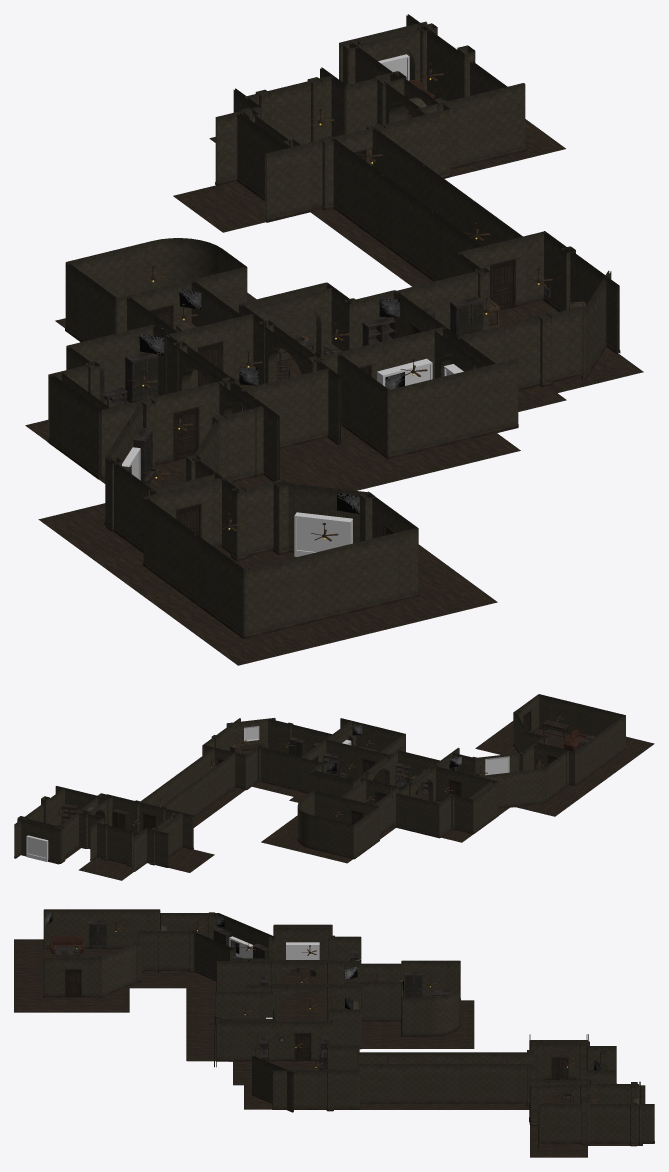
File: mapAct1-done_.fbx
3 views of the same model, one above another, from view 1: azimuth 30°, elevation 25°; view 2: azimuth 150°, elevation 25°; view 3: azimuth 270°, elevation 25° (orthographic). The views are drawn at different scales.
Visible parts, largest first — view 1: wall_2_1.060, wall_2_1.068, wall_2_1.069, wall_2_1.047, wall_1_1_rounded_corner_1.001, wall_2_1.048, wall_2_1.042, pillar_2.001, floor_ceiling_1.069, wall_2_1.040, wall_2_1.067, wall_2_1.032 (+69 smaller); view 2: wall_2_1.022, wall_2_1.064, wall_1_1_rounded_corner_1.001, wall_2_1.041, pillar_2.001, wall_2_1.069, wall_2_1.049, doorway_2.005, wall_2_1.033, wall_2_1.066, wall_2_1.020, doorway_2.014 (+61 smaller); view 3: wall_1_1_rounded_corner_1.001, wall_2_1.031, wall_2_1.021, wall_2_1.028, wall_2_1.045, wall_2_1.038, wall_2_1.062, wall_2_1.039, wall_2_1.030, doorway_2.004, doorway_2.013, wall_2_1.066 (+56 smaller).
Boxes of the visible parts, <box> form: wall_2_1.060: <box>386,369,474,459</box>; wall_2_1.068: <box>243,549,331,638</box>; wall_2_1.069: <box>330,528,418,617</box>; wall_2_1.047: <box>437,83,525,169</box>; wall_1_1_rounded_corner_1.001: <box>109,238,247,297</box>; wall_2_1.048: <box>500,305,588,390</box>; wall_2_1.042: <box>241,368,329,449</box>; pillar_2.001: <box>245,75,333,144</box>; floor_ceiling_1.069: <box>298,440,433,490</box>; wall_2_1.040: <box>48,374,101,479</box>; wall_2_1.067: <box>192,533,245,638</box>; wall_2_1.032: <box>380,174,432,278</box>; wall_2_1.022: <box>395,793,439,838</box>; wall_2_1.064: <box>495,768,544,807</box>; wall_1_1_rounded_corner_1.001: <box>297,791,331,853</box>; wall_2_1.041: <box>258,746,301,791</box>; pillar_2.001: <box>96,823,140,866</box>; wall_2_1.069: <box>539,694,581,734</box>; wall_2_1.049: <box>17,816,65,863</box>; doorway_2.005: <box>433,766,477,801</box>; wall_2_1.033: <box>353,806,379,859</box>; wall_2_1.066: <box>575,734,601,785</box>; wall_2_1.020: <box>210,753,235,804</box>; doorway_2.014: <box>347,744,390,782</box>; wall_1_1_rounded_corner_1.001: <box>401,986,460,1036</box>; wall_2_1.031: <box>415,1064,473,1103</box>; wall_2_1.021: <box>357,1064,415,1103</box>; wall_2_1.028: <box>472,1064,530,1103</box>; wall_2_1.045: <box>596,1104,654,1143</box>; wall_2_1.038: <box>539,1104,597,1143</box>; wall_2_1.062: <box>272,1070,330,1109</box>; wall_2_1.039: <box>529,1040,589,1079</box>; wall_2_1.030: <box>344,981,402,1021</box>; doorway_2.004: <box>274,1021,332,1061</box>; doorway_2.013: <box>43,958,102,997</box>; wall_2_1.066: <box>101,909,159,948</box>.
Bounding box in the file's own units: 3594 × 361 × 4461.
